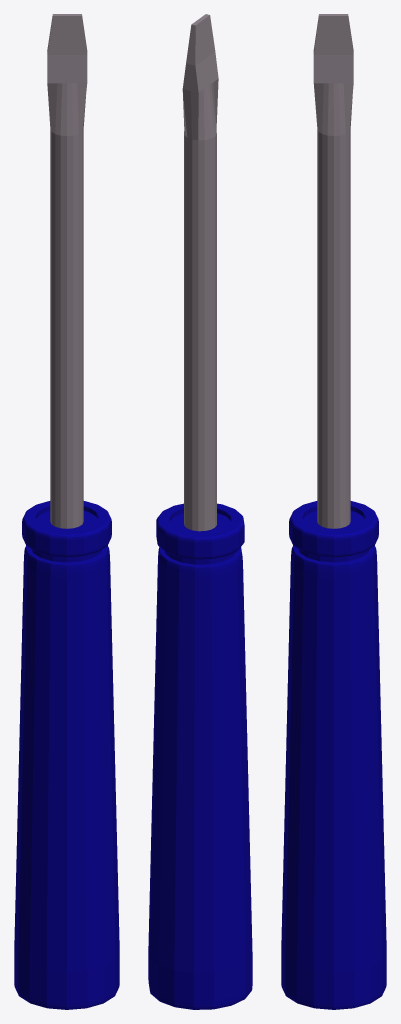
File: ScrewDriverMinus.fbx
3 renders of one model, left to right at view 1: azimuth 90°, elevation 25°; view 2: azimuth 150°, elevation 25°; view 3: azimuth 270°, elevation 25°, orthographic.
Visible parts, largest first — view 1: ScrewDriverMinus; view 2: ScrewDriverMinus; view 3: ScrewDriverMinus.
Boxes of the visible parts, x1,y1,x2,y2 form: ScrewDriverMinus: (14, 14, 119, 1009); ScrewDriverMinus: (148, 14, 252, 1009); ScrewDriverMinus: (281, 14, 386, 1009).
Size of the model in its own units: 520 by 5297 by 520.
